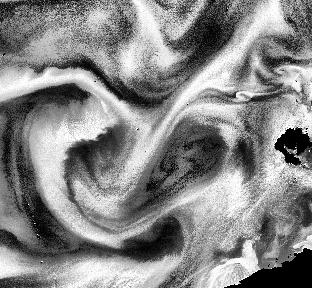AE: (29, 90, 154, 247)
